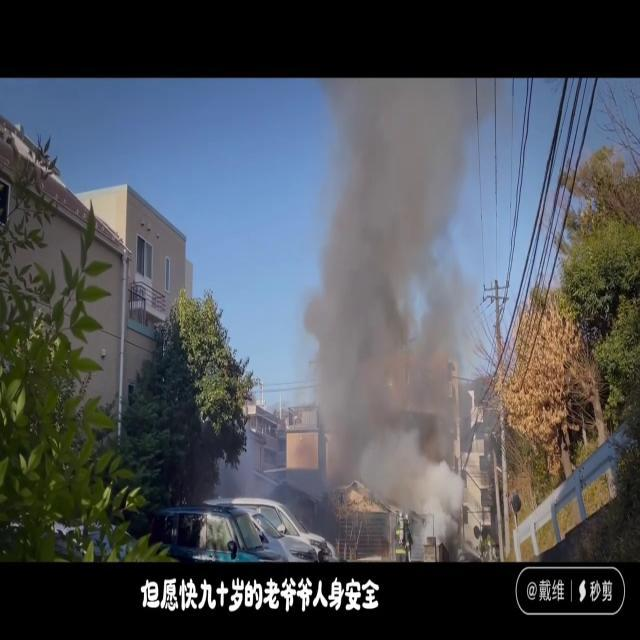Smoke: (300, 80, 484, 510)
